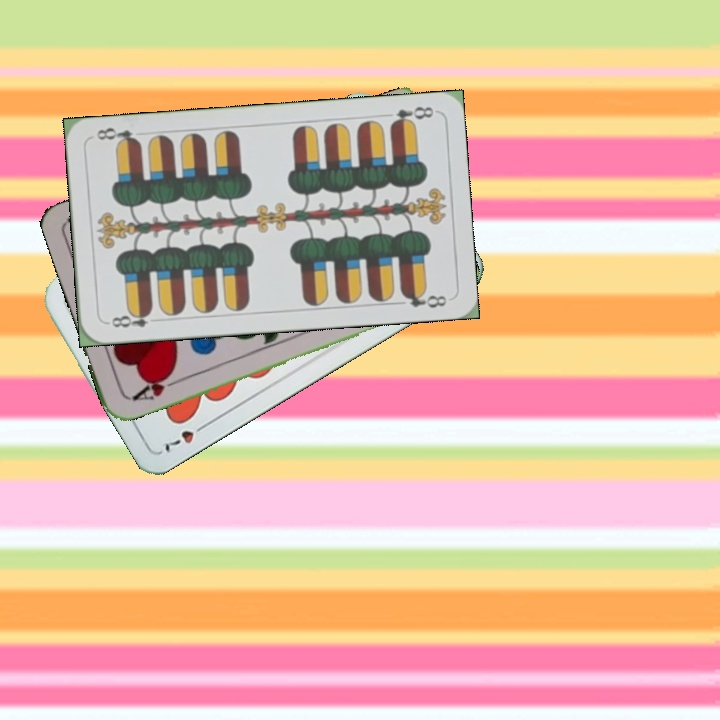E8: (103, 306, 162, 330), (386, 102, 437, 129)
H7: (160, 418, 211, 456)
HA: (125, 369, 183, 404)
